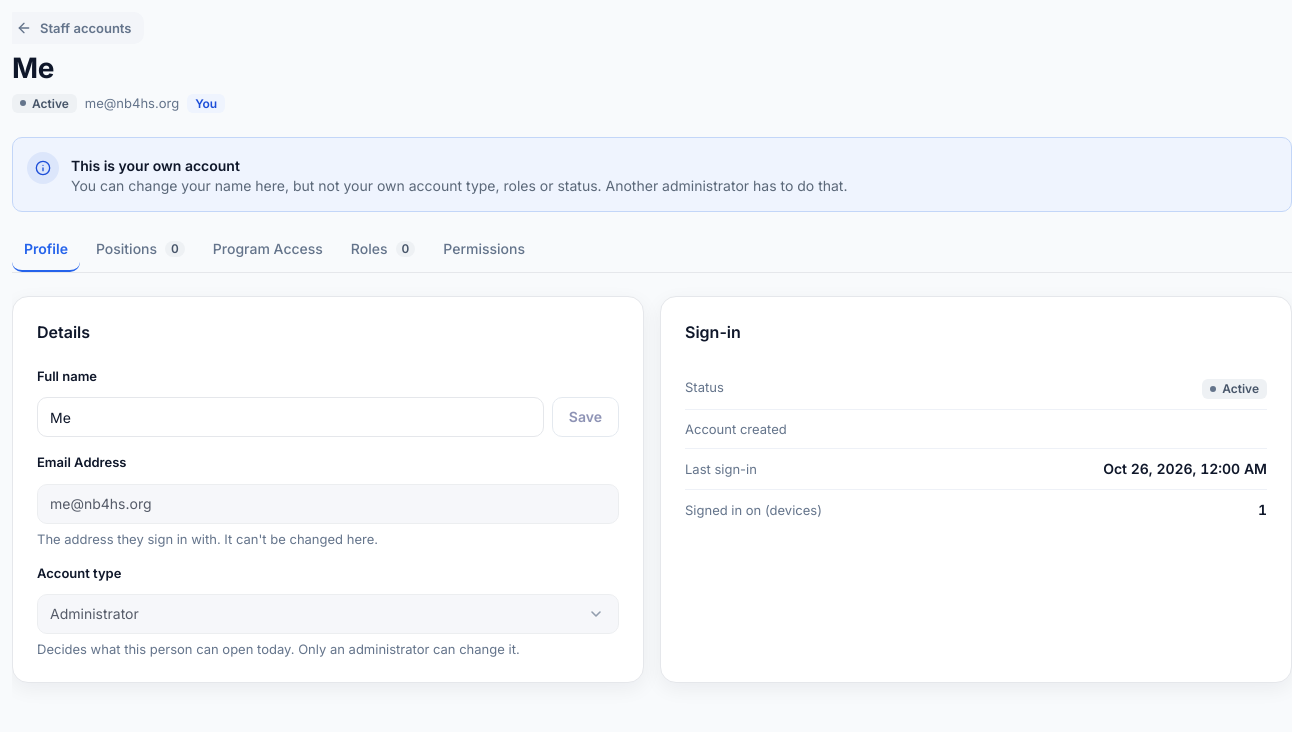
it: Program access › offers no changes on your own account
expect the text "This is your own account" is shown: met, box left=71, top=157, right=240, bottom=174
Click the tab "Program Access" at (268, 250), box left=201, top=228, right=335, bottom=272
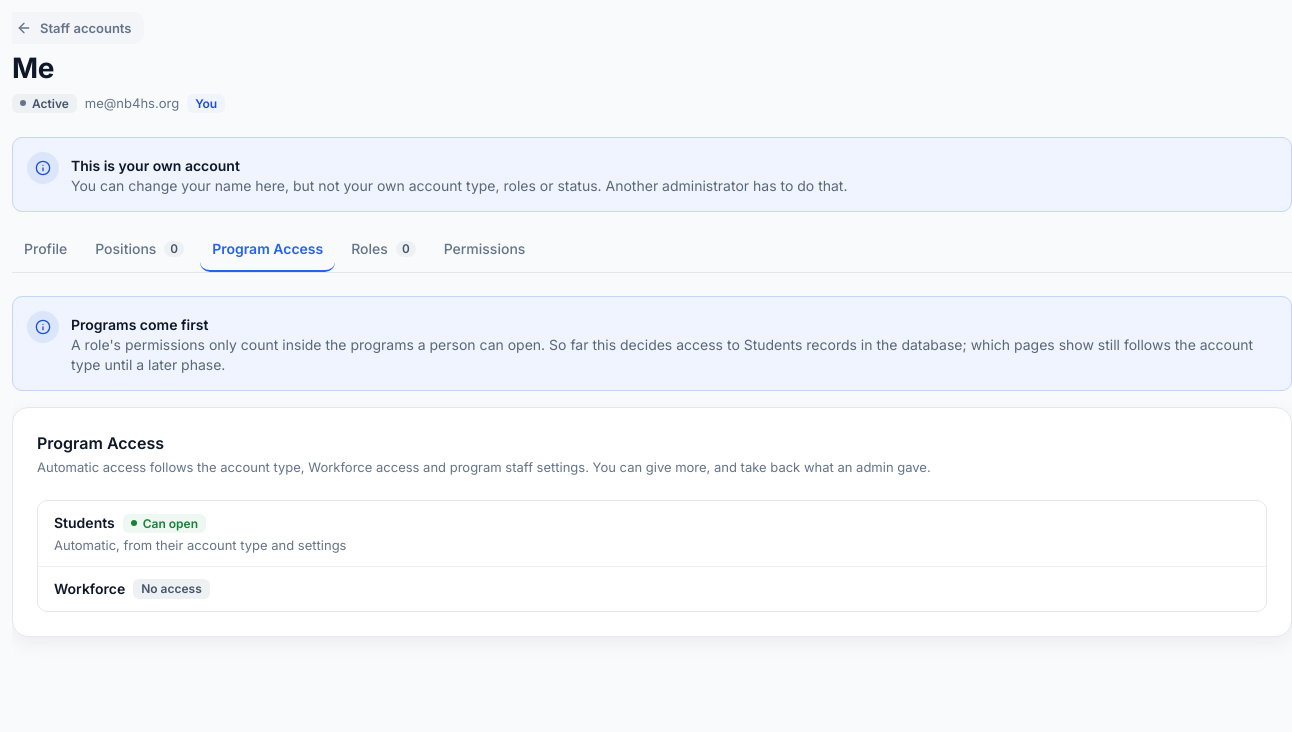
expect the text "Automatic, from their account type and settings" is shown: met, box left=54, top=536, right=346, bottom=554
